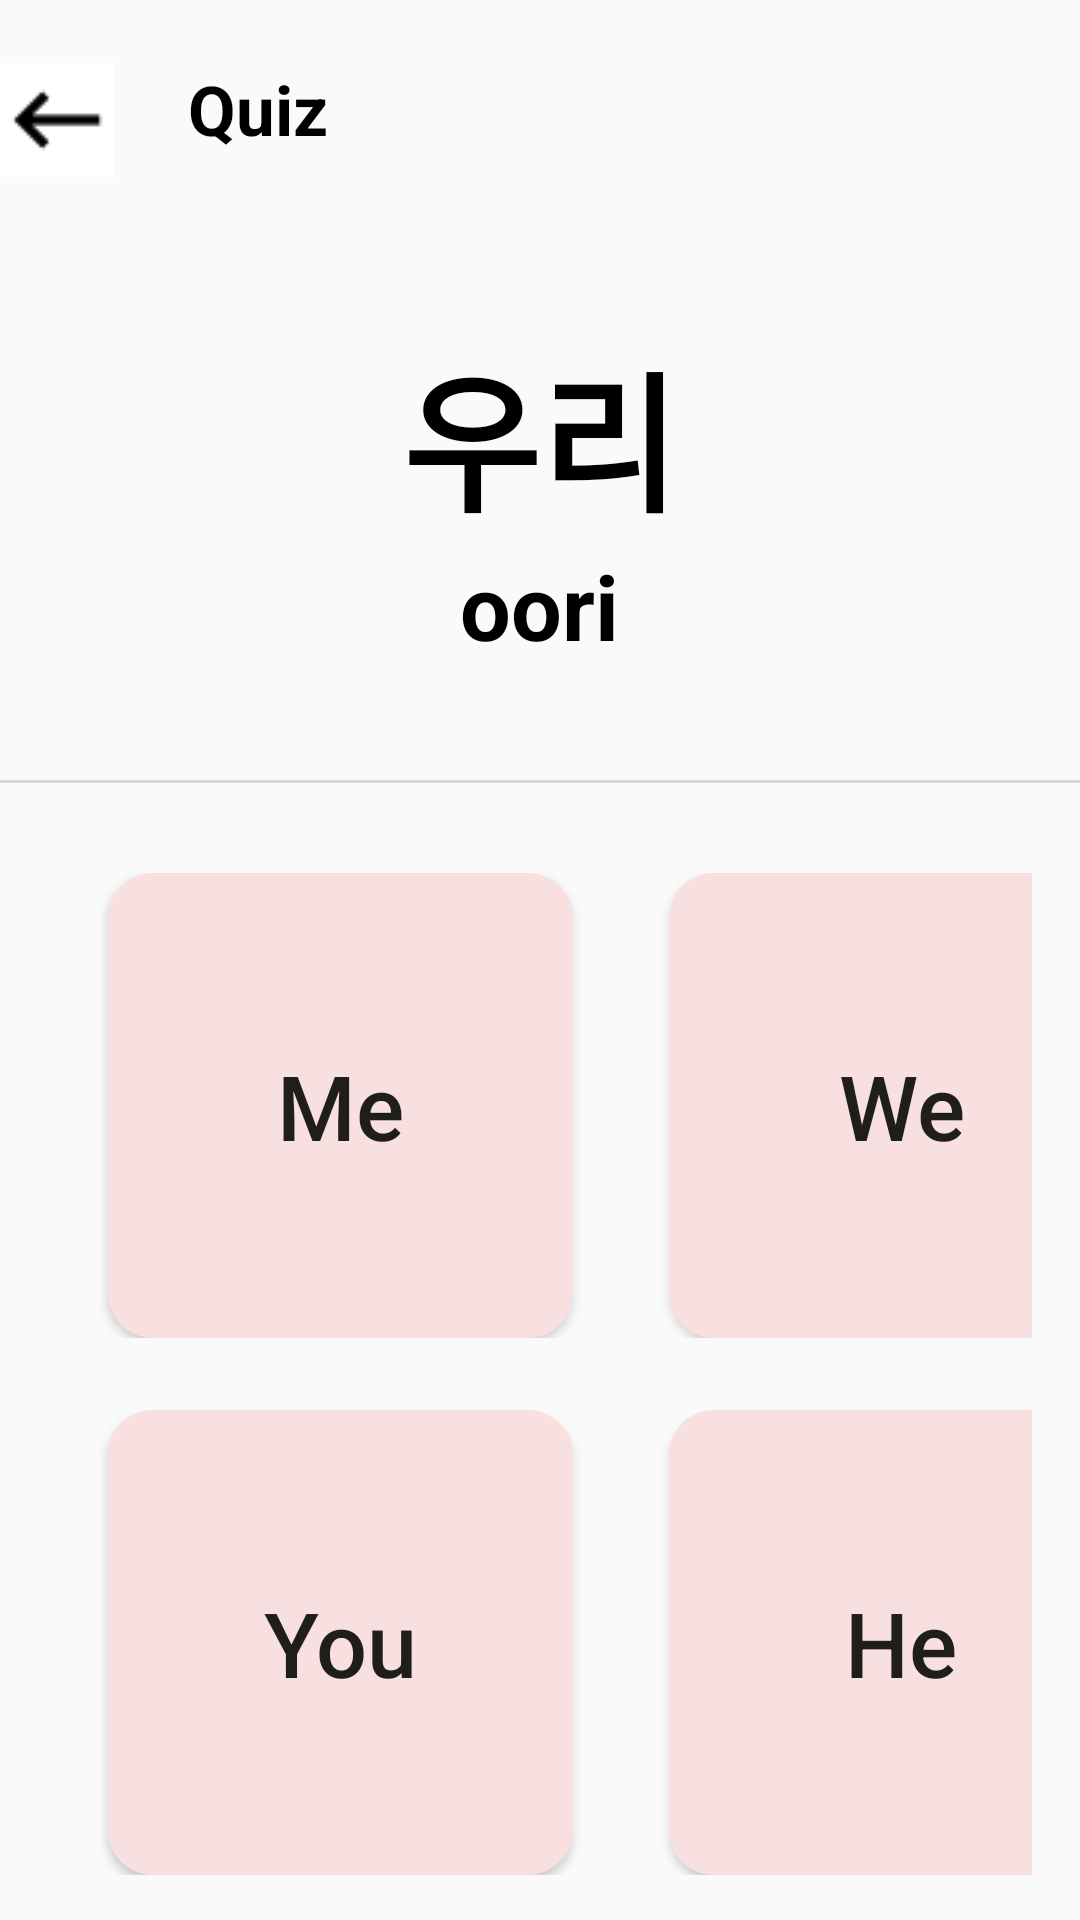

Locate icon controls on the screen. Image size 1080x1920, boxes as (x1, y1, x2, y2).
keyboard backspace: (14, 90, 102, 150)
